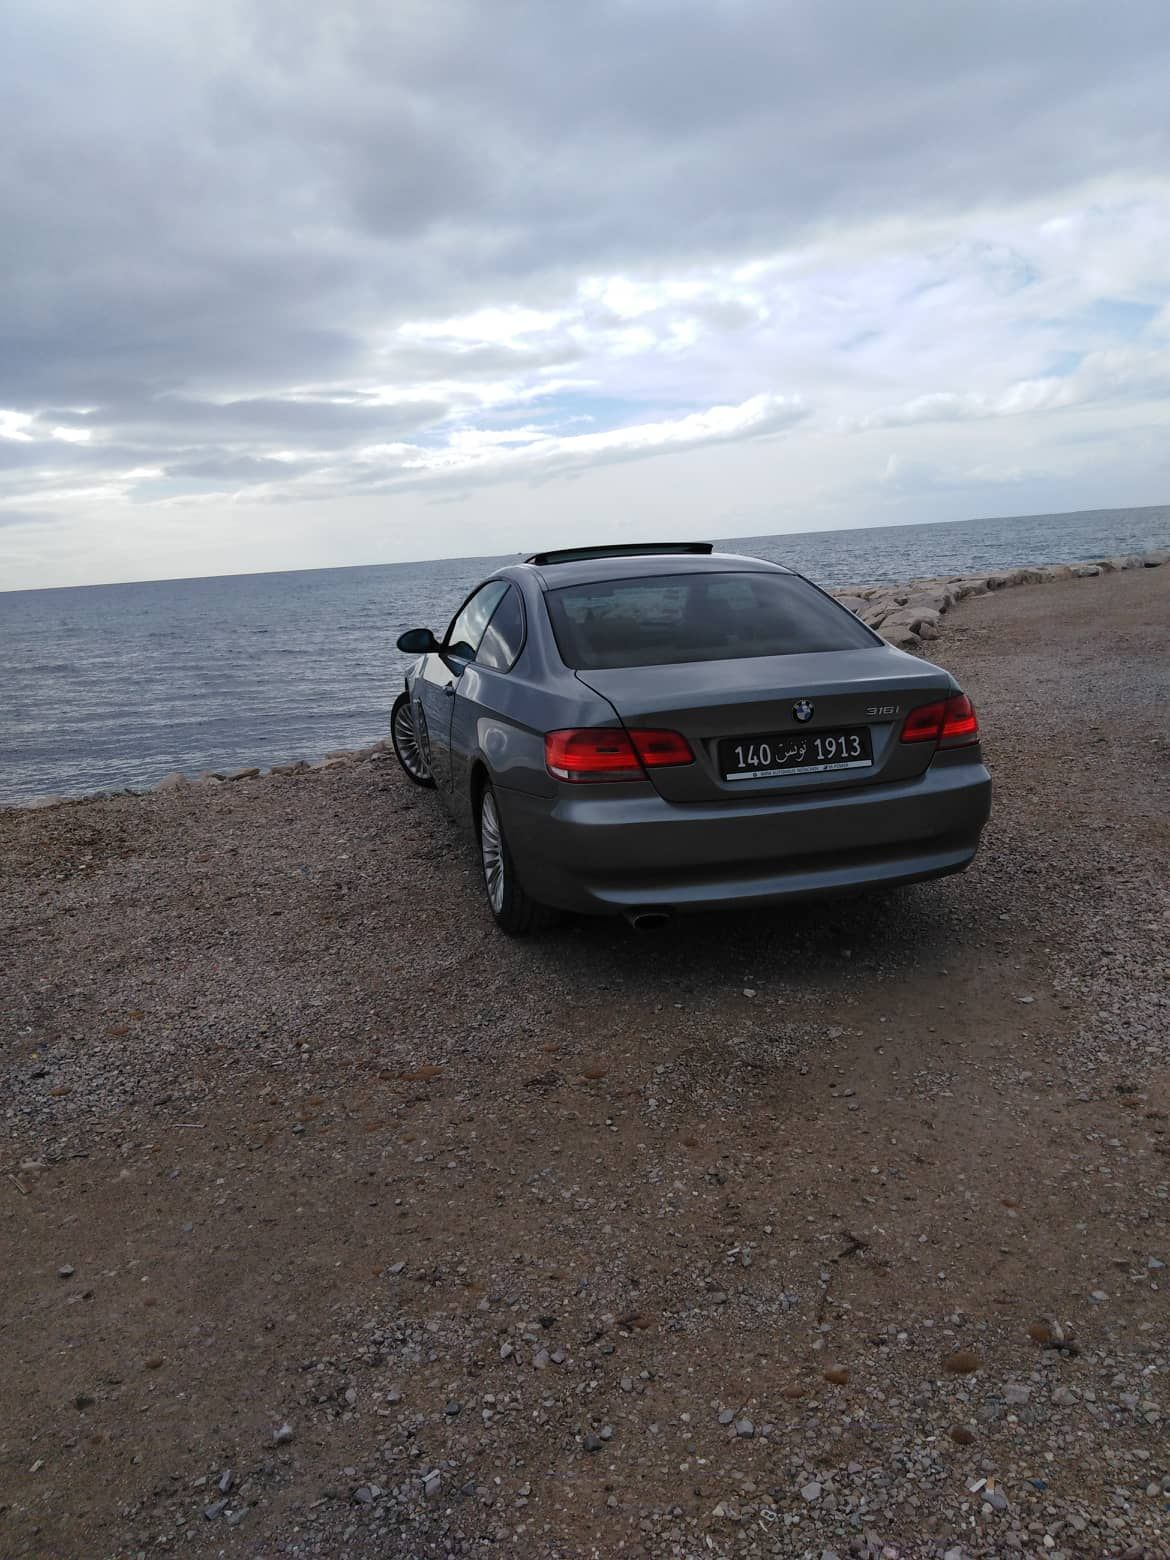LP: (722, 727, 872, 775)
